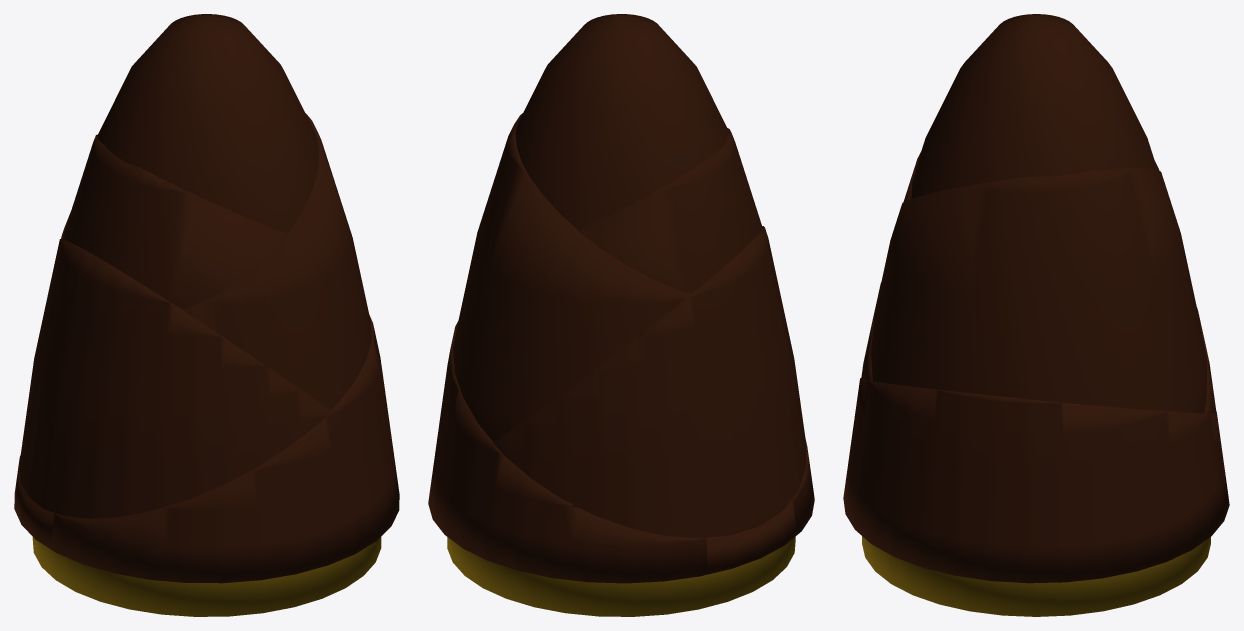
File: bambooshoot.obj
3 views of the same model, side by side, from view 1: azimuth 30°, elevation 25°; view 2: azimuth 150°, elevation 25°; view 3: azimuth 270°, elevation 25° (orthographic).
Visible parts, largest first — view 1: Cylinder.008_Cylinder.016, Cylinder.001_Cylinder.017, Sphere_Sphere.003, Cylinder.004_Cylinder.015, Cylinder_Cylinder.014, Cylinder.002_Cylinder.018; view 2: Cylinder.008_Cylinder.016, Cylinder.004_Cylinder.015, Sphere_Sphere.003, Cylinder.001_Cylinder.017, Cylinder_Cylinder.014, Cylinder.002_Cylinder.018; view 3: Cylinder.004_Cylinder.015, Cylinder.001_Cylinder.017, Sphere_Sphere.003, Cylinder.002_Cylinder.018, Cylinder.008_Cylinder.016.
Boxes of the visible parts, bbox=[...] form: Cylinder.008_Cylinder.016: bbox=[19, 239, 331, 518]; Cylinder.001_Cylinder.017: bbox=[14, 315, 399, 583]; Sphere_Sphere.003: bbox=[97, 14, 318, 233]; Cylinder.004_Cylinder.015: bbox=[61, 113, 371, 409]; Cylinder_Cylinder.014: bbox=[63, 134, 287, 309]; Cylinder.002_Cylinder.018: bbox=[32, 537, 381, 616]; Cylinder.008_Cylinder.016: bbox=[493, 226, 805, 538]; Cylinder.004_Cylinder.015: bbox=[453, 113, 691, 441]; Sphere_Sphere.003: bbox=[515, 14, 728, 230]; Cylinder.001_Cylinder.017: bbox=[428, 321, 814, 583]; Cylinder_Cylinder.014: bbox=[578, 128, 762, 293]; Cylinder.002_Cylinder.018: bbox=[447, 537, 795, 616]; Cylinder.004_Cylinder.015: bbox=[871, 168, 1206, 413]; Cylinder.001_Cylinder.017: bbox=[843, 378, 1229, 583]; Sphere_Sphere.003: bbox=[911, 14, 1157, 198]; Cylinder.002_Cylinder.018: bbox=[862, 536, 1210, 616]; Cylinder.008_Cylinder.016: bbox=[861, 282, 1216, 413].
Size of the model in its own units: 2.08 by 3.13 by 2.08.
